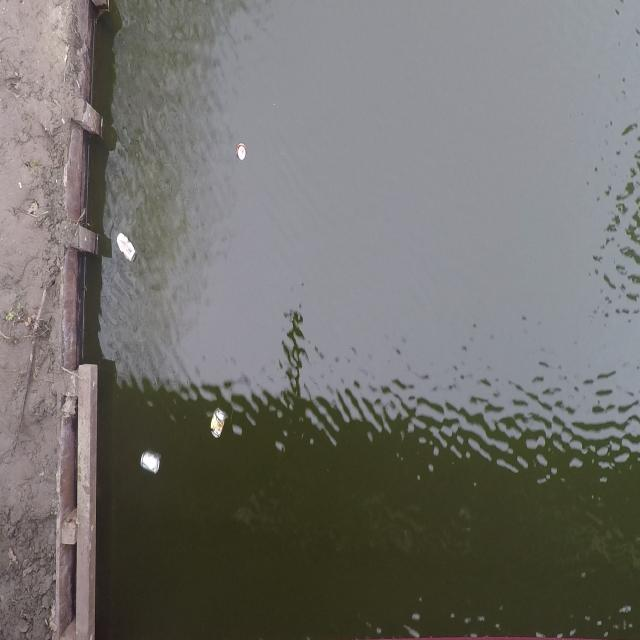Non plastique: (112, 224, 141, 270), (136, 442, 166, 481), (207, 407, 230, 446), (233, 141, 252, 164)
